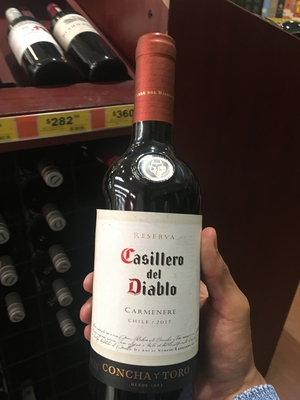casillero del diablo carmenere: (90, 35, 215, 400)
